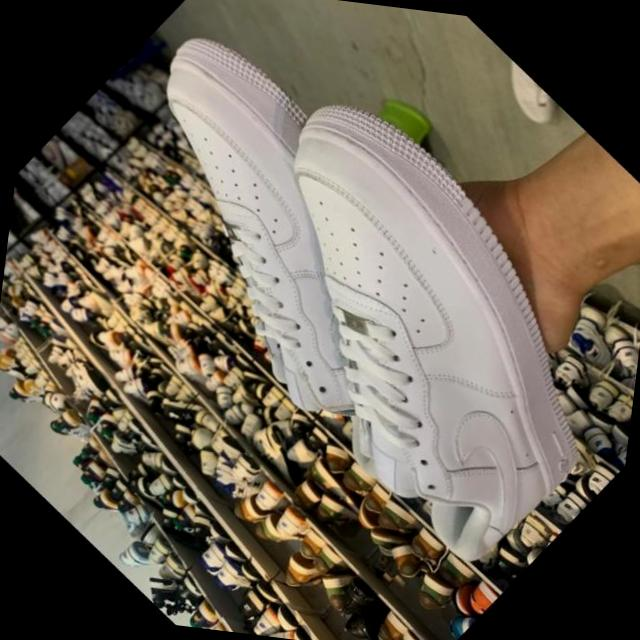nike_fake_airforce: (119, 46, 640, 599), (17, 0, 552, 495)
